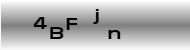4: (33, 16, 48, 30)
B: (48, 26, 64, 40)
F: (65, 17, 78, 30)
j: (92, 9, 100, 24)
n: (105, 29, 121, 40)
